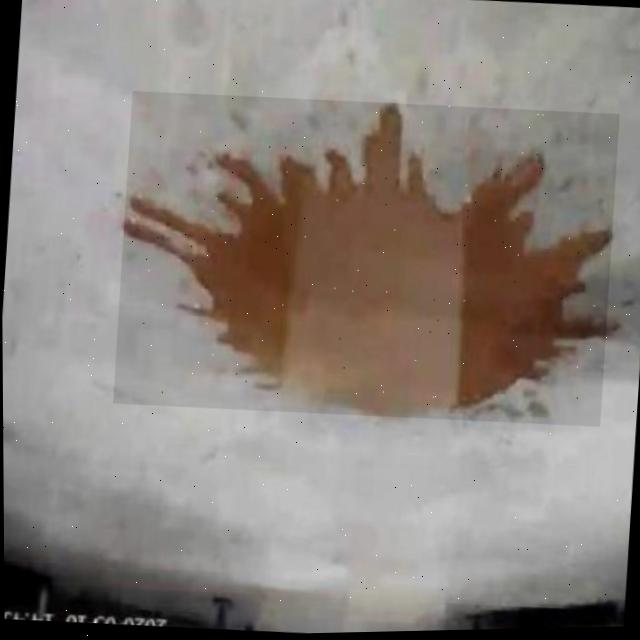spillage: (123, 105, 611, 419)
